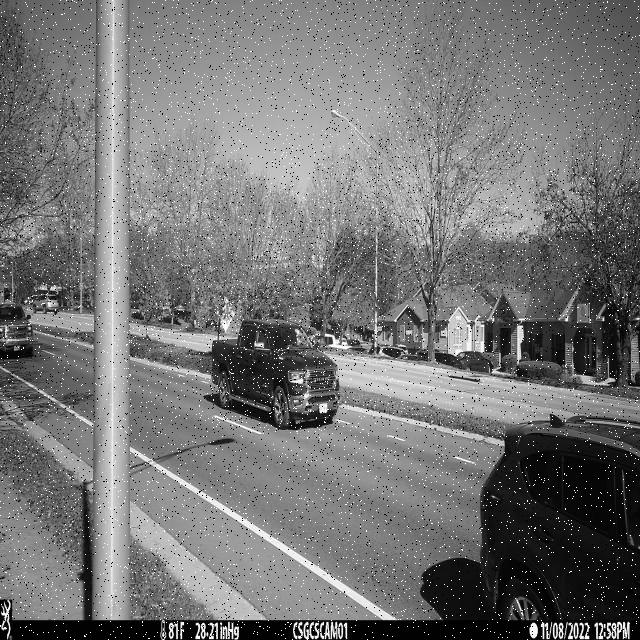Pickup: (211, 319, 340, 430)
